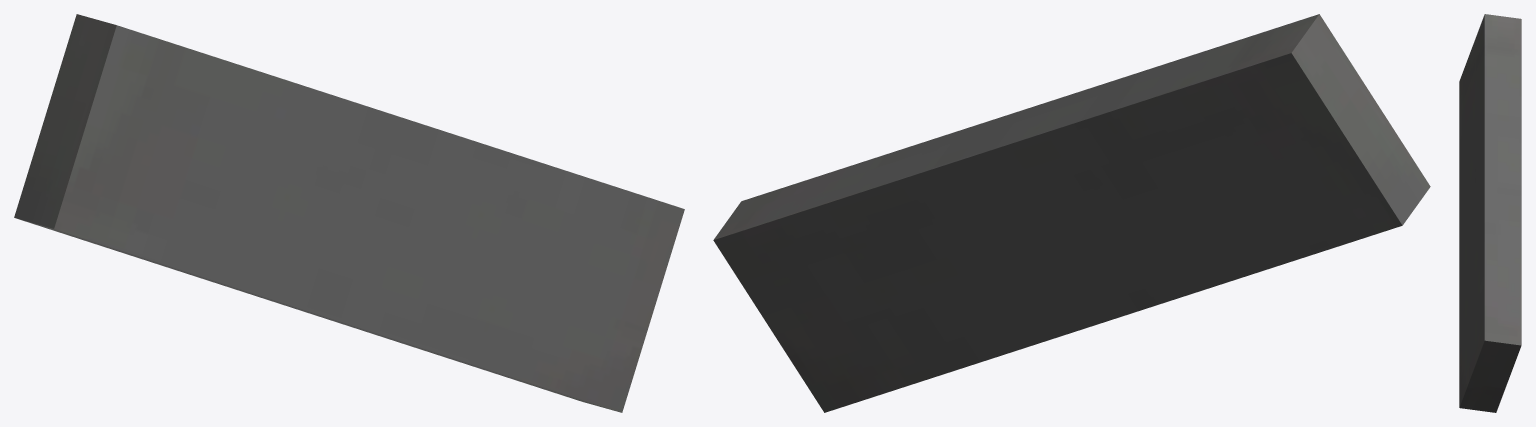
File: fan_left__blade_3.glb
3 views of the same model, side by side, from view 1: azimuth 30°, elevation 25°; view 2: azimuth 150°, elevation 25°; view 3: azimuth 270°, elevation 25° (orthographic). The views are drawn at different scales.
Parts seen in each view (by area): view 1: world; view 2: world; view 3: world.
Part boxes in pixels (x1,y1,x2,y2): world: (14, 14, 684, 412); world: (713, 14, 1430, 412); world: (1459, 14, 1521, 412).
Size of the model in its own units: 0.0286 by 0.0207 by 0.00428.
1 material, 1 textured.
